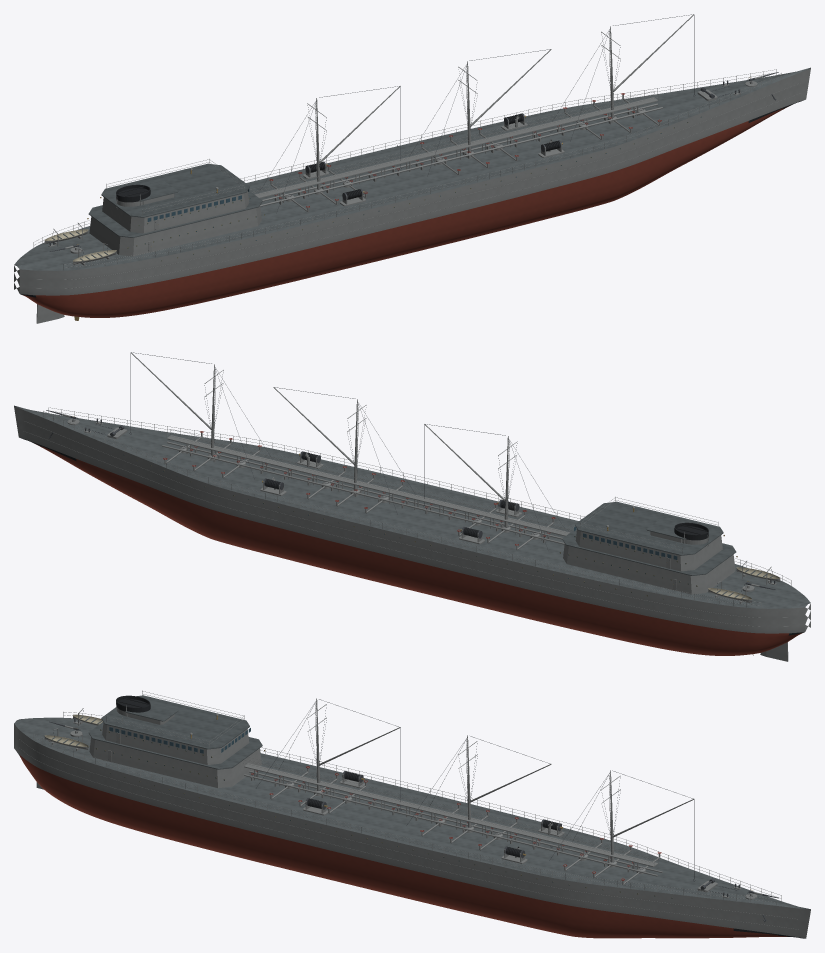
Rendered from jp_support_1922.glb.
3 views of the same model, one above another, from view 1: azimuth 30°, elevation 25°; view 2: azimuth 150°, elevation 25°; view 3: azimuth 330°, elevation 25° (orthographic).
Parts seen in each view (by area): view 1: Fleet support ship · 1922; view 2: Fleet support ship · 1922; view 3: Fleet support ship · 1922.
Boxes of the visible parts, box(x1,y1,x2,y2) form: Fleet support ship · 1922: box(14, 14, 810, 323); Fleet support ship · 1922: box(14, 352, 810, 661); Fleet support ship · 1922: box(14, 690, 810, 938).
Size of the model in its own units: 135 by 26.09 by 17.09.
Materials: 10 (9 with a texture image).
